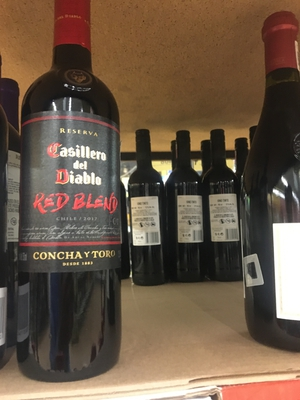casillero del diablo red blend: (19, 16, 133, 387)
